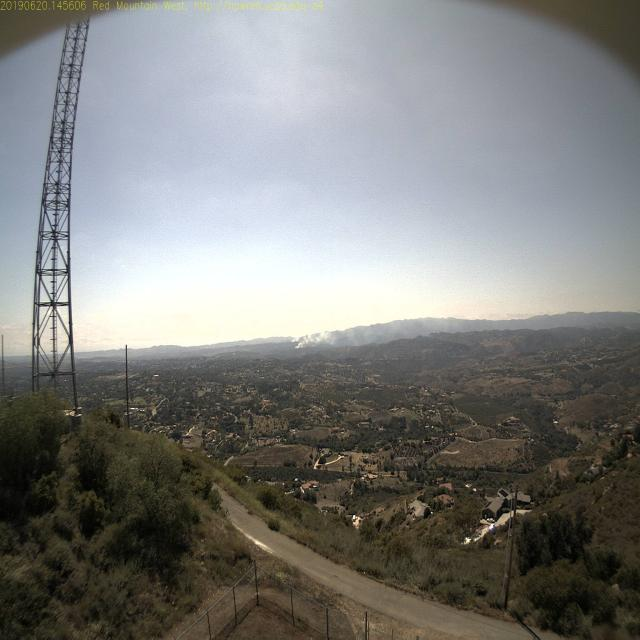smoke: (295, 331, 329, 356), (293, 338, 315, 355)
